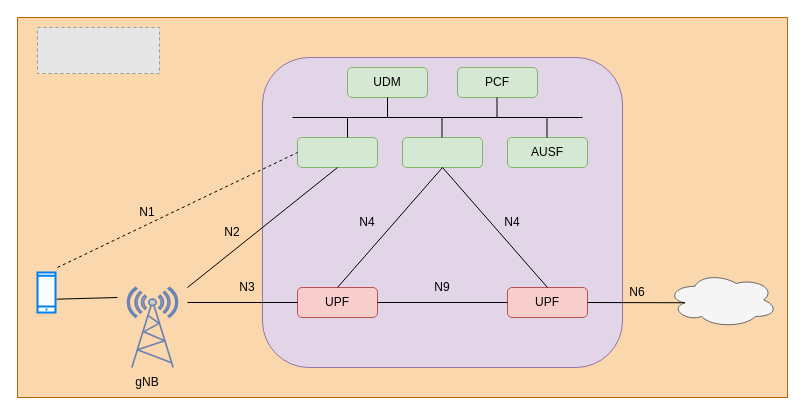
Image size: 805x415. Some labels were removed from this diagram. Grey dashed boxes stand in for pictures. Here are the shapes that lost their labels. From the top down, the centre of each, then its label:
At point (337, 152): "AMF".
At point (442, 152): "SMF".
At point (722, 300): "Data Network".
